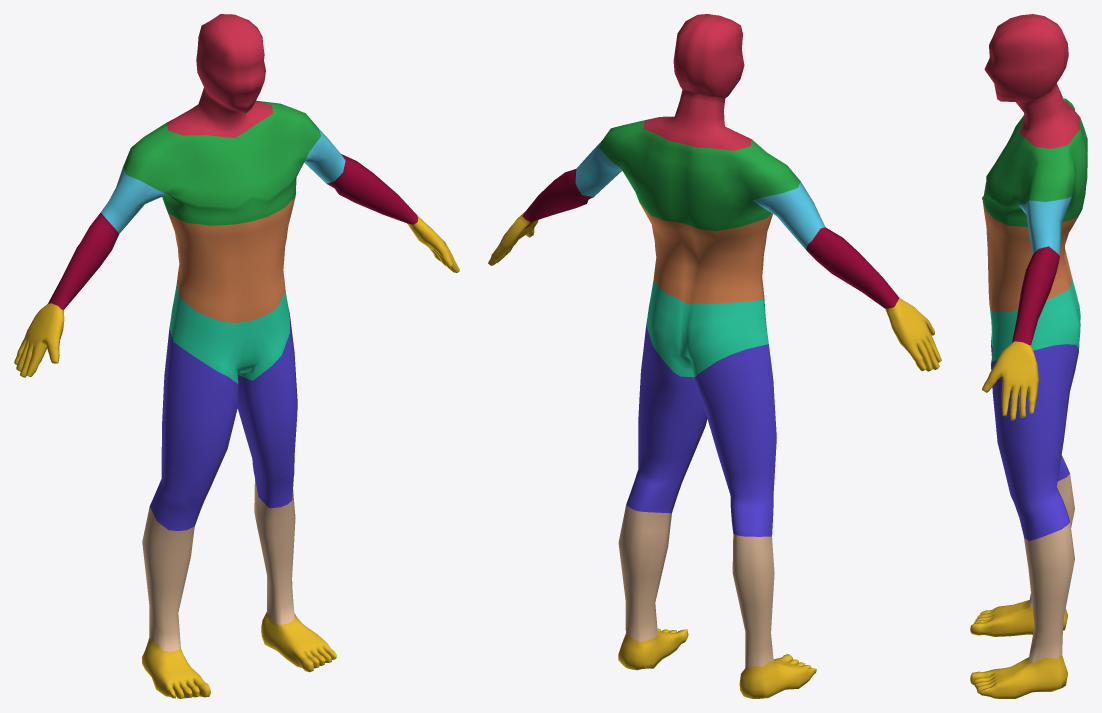
File: generatedbody.glb
3 views of the same model, side by side, from view 1: azimuth 30°, elevation 25°; view 2: azimuth 150°, elevation 25°; view 3: azimuth 270°, elevation 25° (orthographic). The views are drawn at different scales.
Parts seen in each view (by area): view 1: body; view 2: body; view 3: body.
Part boxes in pixels (left/top/right/bottom): body: left=14, top=14, right=459, bottom=698; body: left=488, top=14, right=941, bottom=698; body: left=970, top=14, right=1087, bottom=698.
Bounding box in the file's own units: 1.24 × 1.75 × 0.2902.
